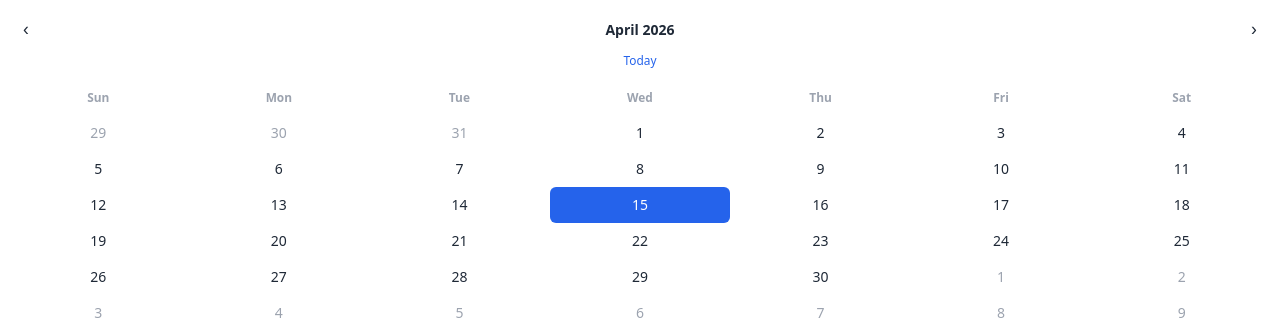
Scenario: CalendarWidget › navigates to previous month
Click the button named "Previous month". click: (26,30)
box: [8,12,44,48]
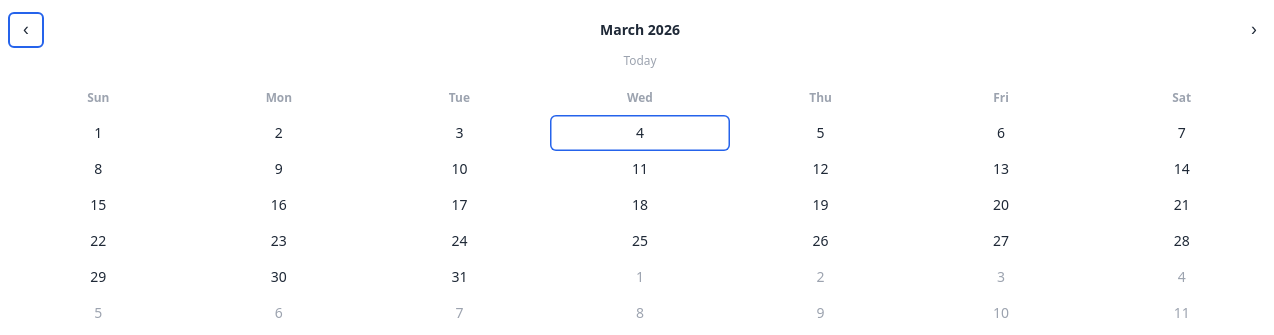
Result: the button "March 2026" is shown at [592,19,688,41]
